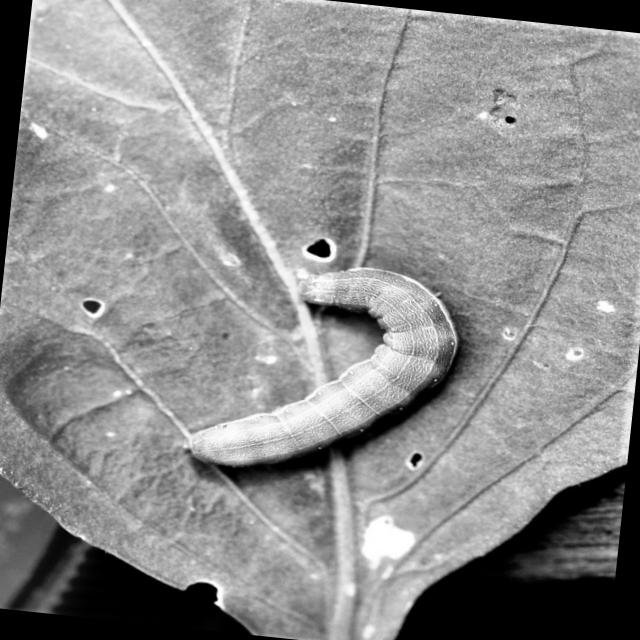Armyworm: (139, 225, 470, 519)
Armyworm_damage: (47, 261, 144, 356), (450, 75, 547, 140), (162, 554, 254, 622), (383, 435, 449, 489), (289, 233, 357, 281), (553, 334, 607, 367), (499, 310, 544, 348)
